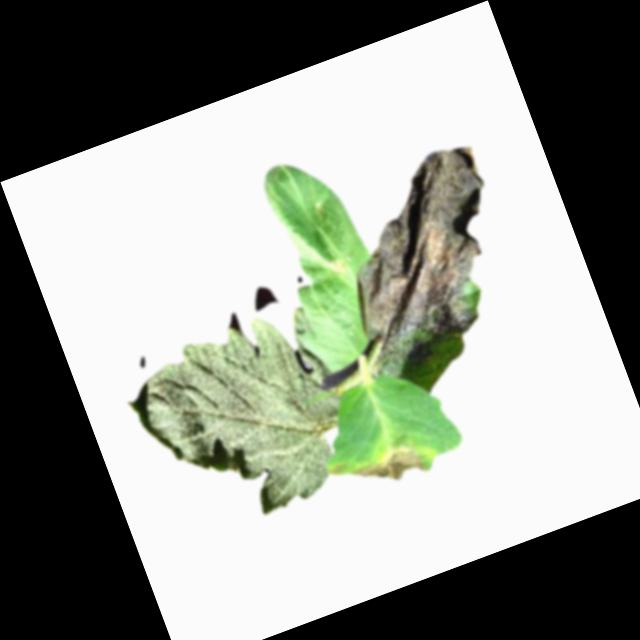Late_blight: (310, 136, 536, 382), (342, 437, 430, 499), (322, 251, 348, 278)
healthy: (113, 302, 363, 546)
